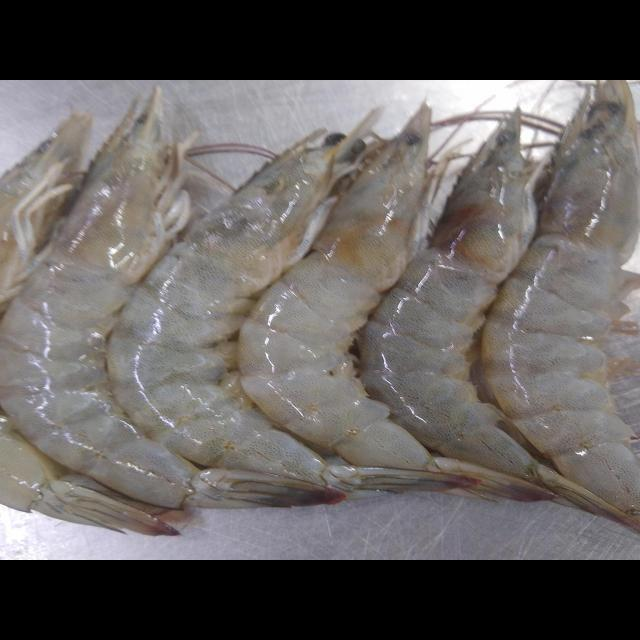shrimp: (106, 119, 372, 485), (0, 92, 198, 509), (238, 105, 438, 471), (482, 80, 640, 521), (358, 115, 544, 486), (0, 112, 89, 315)
